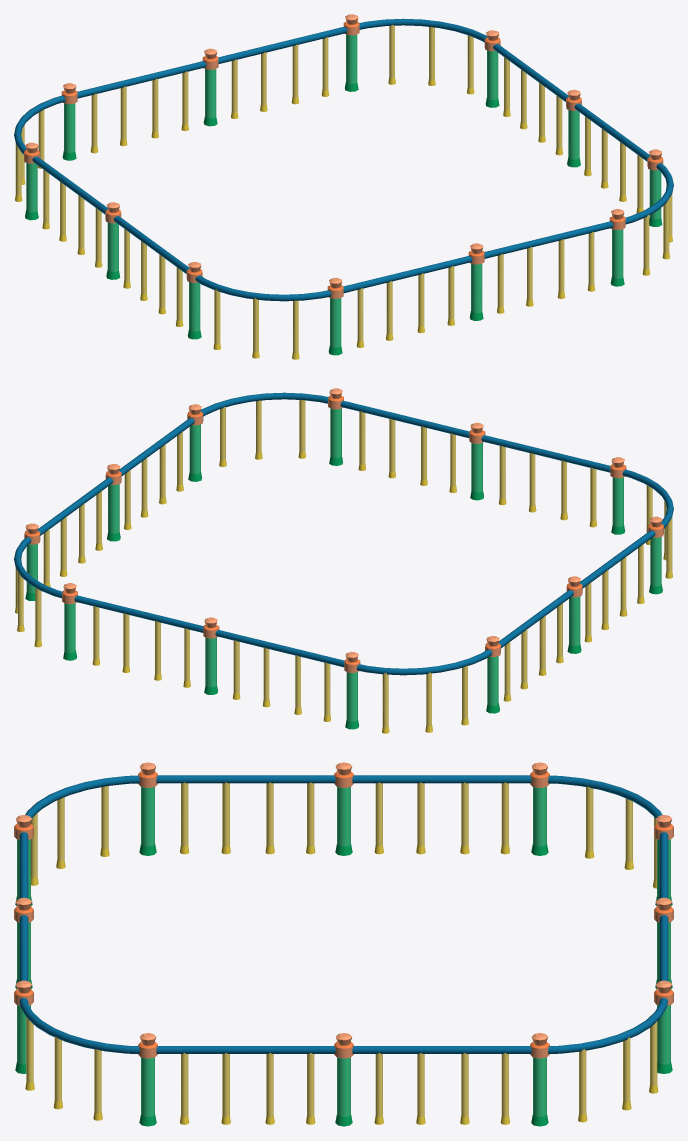
File: fence_wheel.fbx
3 views of the same model, one above another, from view 1: azimuth 30°, elevation 25°; view 2: azimuth 150°, elevation 25°; view 3: azimuth 270°, elevation 25° (orthographic). The views are drawn at different scales.
Visible parts, largest first — view 1: fence_wheel; view 2: fence_wheel; view 3: fence_wheel.
Part boxes in pixels (<box>): fence_wheel: <box>14,14,673,359</box>; fence_wheel: <box>14,388,673,733</box>; fence_wheel: <box>14,762,673,1126</box>.
Bounding box in the file's own units: 505 × 74.33 × 505.
